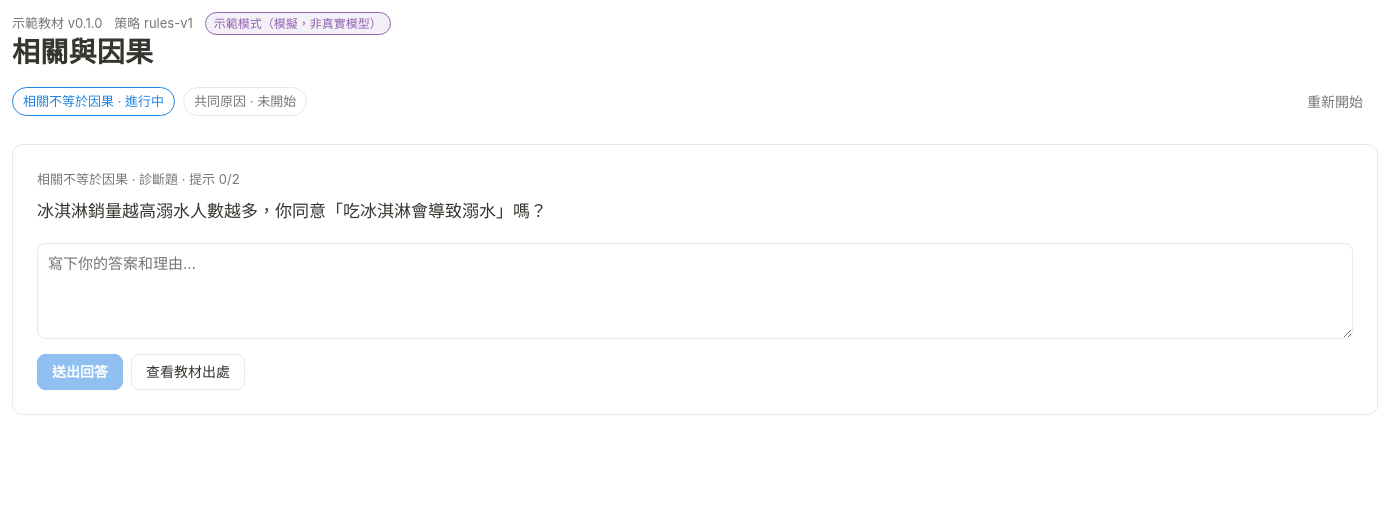
Test case: LearnPage › keeps the student's input and offers retry when the model is unavailable
Expected: the element with test id "question" is shown, left=37, top=201, right=547, bottom=221
In the text box named "你的回答": (695, 291) left=37, top=243, right=1353, bottom=339, type "我的答案"
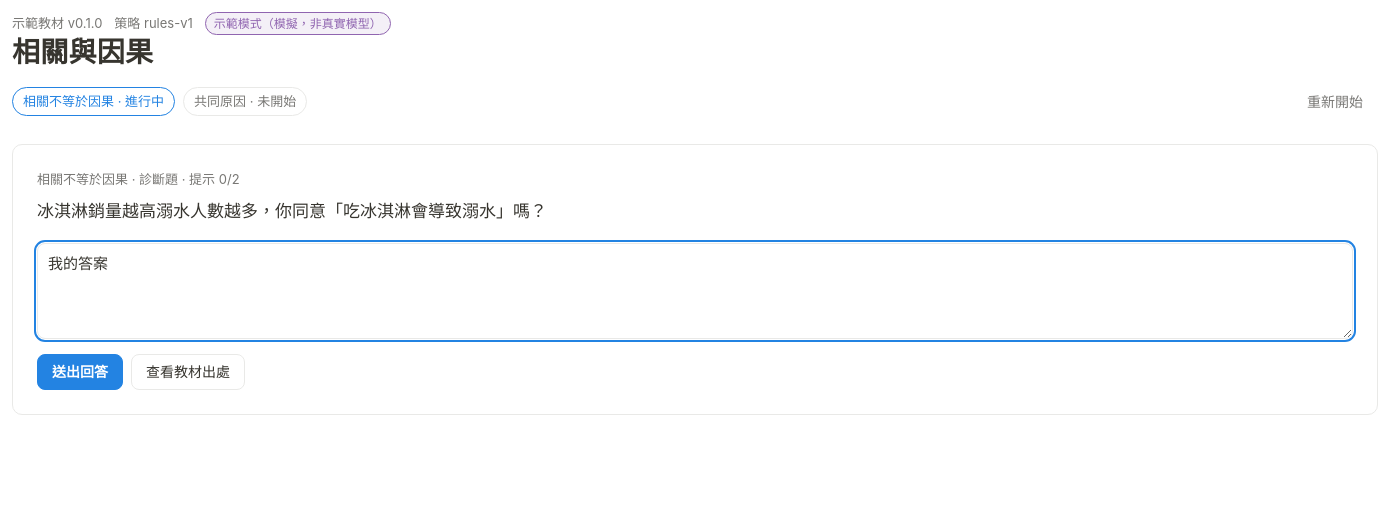
Click the button "送出回答": (80, 372) left=37, top=354, right=123, bottom=390
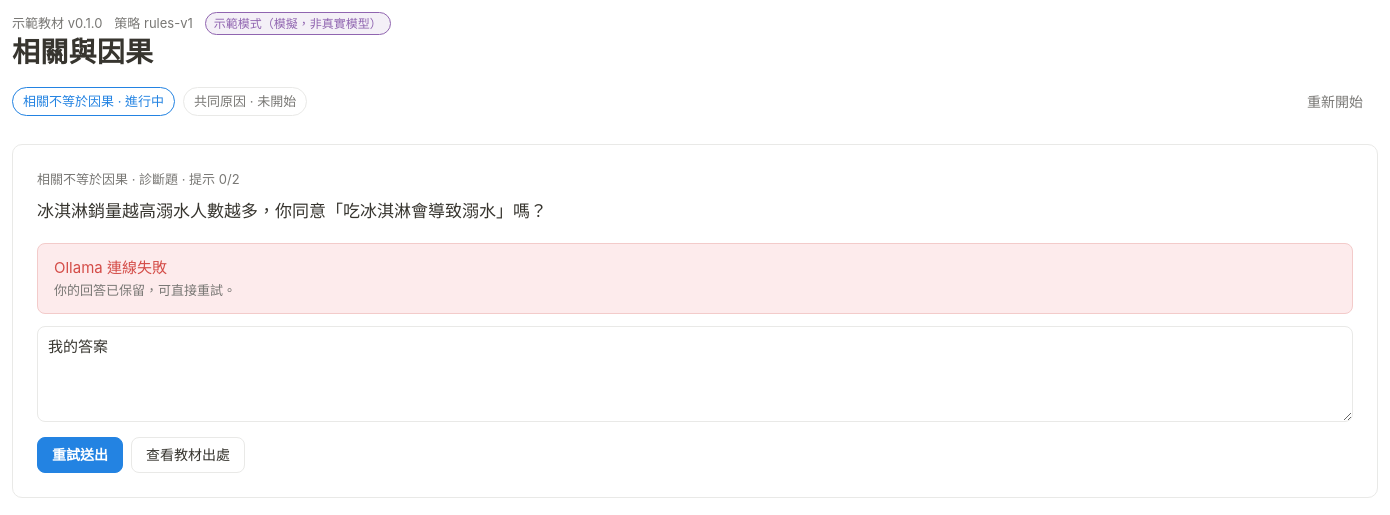
Now the element with test id "error" shows "Ollama 連線失敗", box left=54, top=258, right=167, bottom=277
Now the element with test id "error" shows "你的回答已保留", box left=54, top=282, right=236, bottom=298
Now the button "重試送出" is shown, box left=37, top=437, right=123, bottom=473
